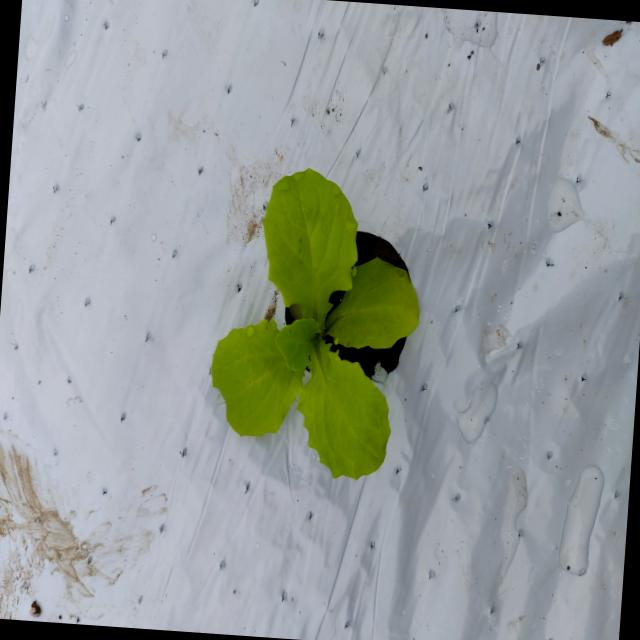Lettuce-Not-Ready-to-Harvest: (210, 162, 420, 475)
